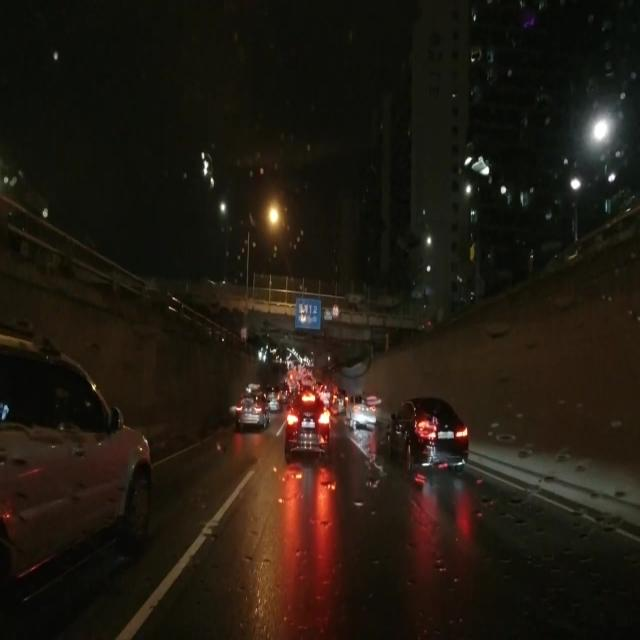Car: (1, 338, 152, 612), (386, 397, 463, 474), (286, 388, 330, 461), (234, 385, 266, 425)
